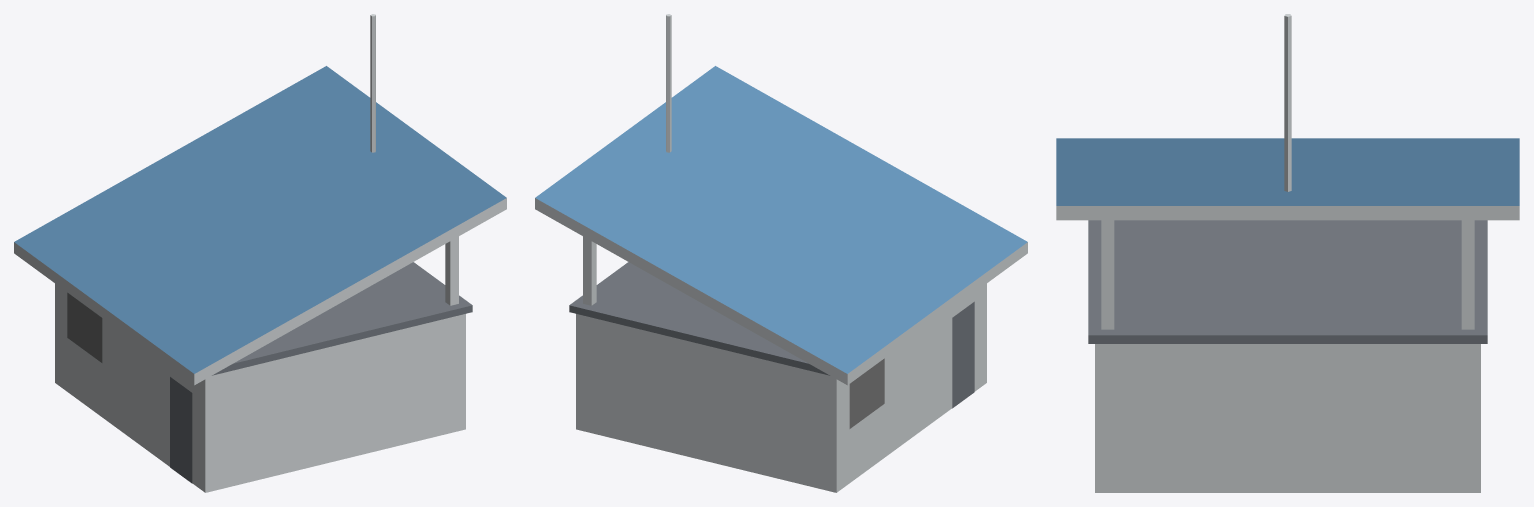
The model's file is roofprop.fbx.
3 views of the same model, side by side, from view 1: azimuth 30°, elevation 25°; view 2: azimuth 150°, elevation 25°; view 3: azimuth 270°, elevation 25° (orthographic). The views are drawn at different scales.
Visible parts, largest first — view 1: a2007/750/roofprop; view 2: a2007/750/roofprop; view 3: a2007/750/roofprop.
Part boxes in pixels (x1,y1,x2,y2): a2007/750/roofprop: (14,14,506,492); a2007/750/roofprop: (535,14,1027,492); a2007/750/roofprop: (1056,14,1519,492).
Size of the model in its own units: 7.2 by 8 by 7.2.
